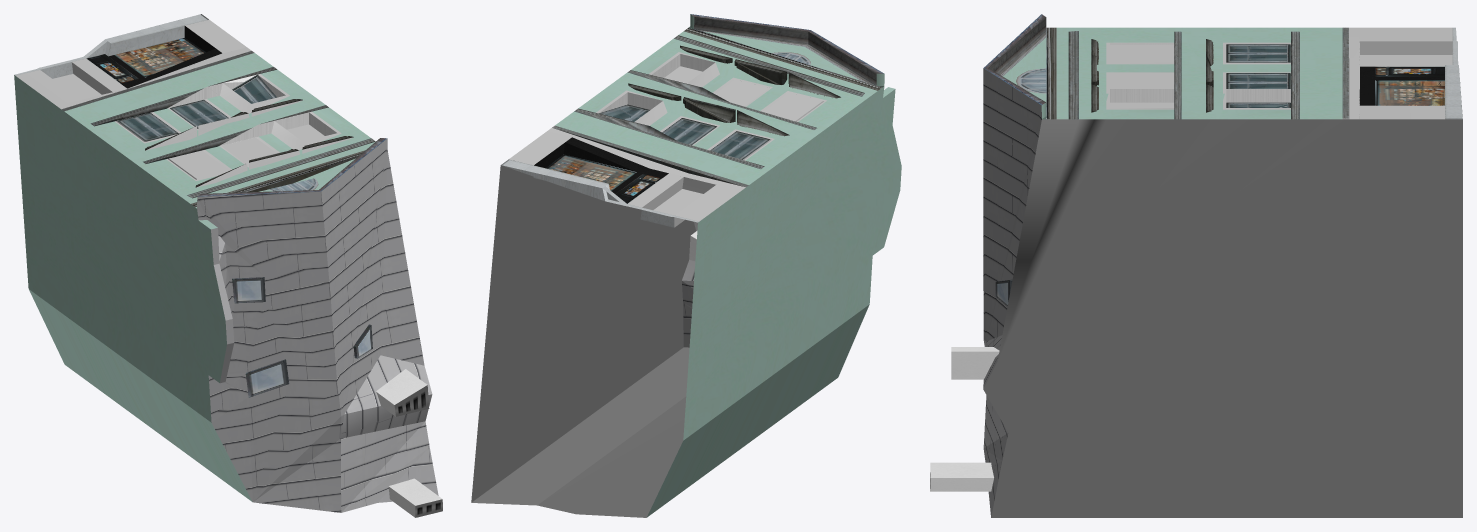
Rendered from Dunkri_3-origo.obj.
The picture shows the model from 3 angles, left to right: view 1: azimuth 30°, elevation 25°; view 2: azimuth 150°, elevation 25°; view 3: azimuth 270°, elevation 25°; orthographic projection. The views are drawn at different scales.
Visible parts, largest first — view 1: Dunkri_3; view 2: Dunkri_3; view 3: Dunkri_3.
Part boxes in pixels (<box>): Dunkri_3: <box>14,14,442,517</box>; Dunkri_3: <box>471,14,901,517</box>; Dunkri_3: <box>930,14,1462,517</box>.
Bounding box in the file's own units: 9.5 × 14.5 × 17.66.
